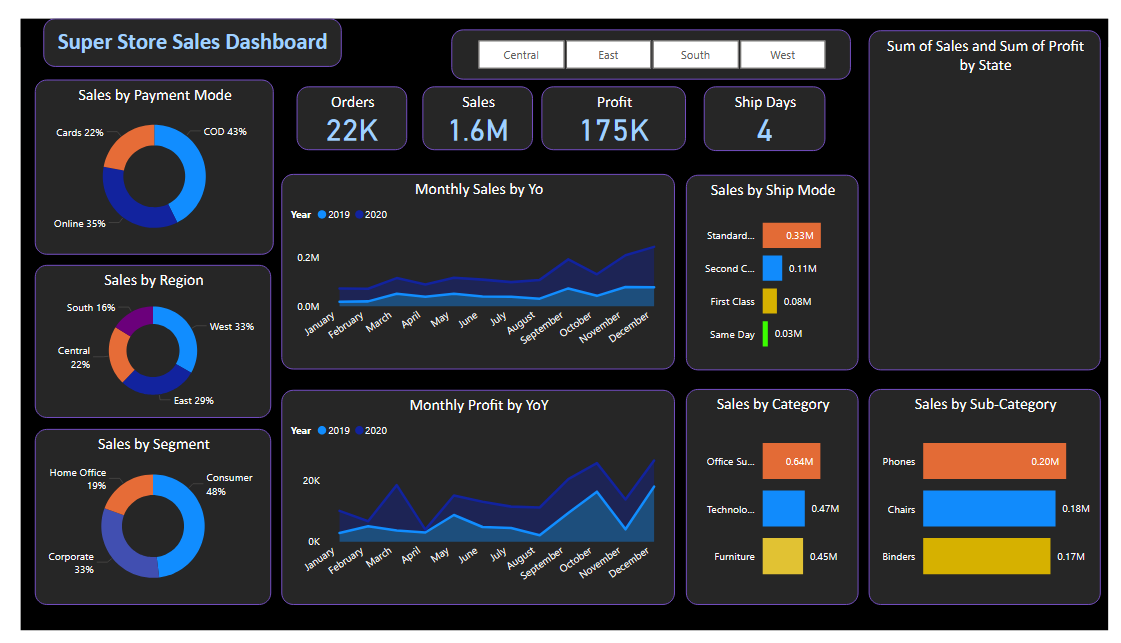

What the dashboard file says about the page in this screenshot:
{"tool":"powerbi","page":{"name":"Dashboard","canvas":[1280,720],"ordinal":0},"visuals":[{"type":"clusteredBarChart","title":"Sales by Category","fields":{"Category":["SuperStore_Sales_Dataset.Category"],"Y":["Sum(SuperStore_Sales_Dataset.Sales)"]},"box":[782.5,436.2,203.8,253.8],"z":0},{"type":"clusteredBarChart","title":"Sales by Sub-Category","fields":{"Y":["Sum(SuperStore_Sales_Dataset.Sales)"],"Category":["SuperStore_Sales_Dataset.Sub-Category"]},"box":[997.5,436.2,273.8,253.8],"z":1000},{"type":"clusteredBarChart","title":"Sales by Ship Mode","fields":{"Y":["Sum(SuperStore_Sales_Dataset.Sales)"],"Category":["SuperStore_Sales_Dataset.Ship Mode"]},"box":[782.5,183.8,203.8,230],"z":2000},{"type":"stackedAreaChart","title":"Monthly Sales by Yo","fields":{"Y":["Sum(SuperStore_Sales_Dataset.Sales)"],"Series":["SuperStore_Sales_Dataset.Order Date.Variation.Date Hierarchy.Year"],"Category":["SuperStore_Sales_Dataset.Order Date.Variation.Date Hierarchy.Month","SuperStore_Sales_Dataset.Order Date.Variation.Date Hierarchy.Day"]},"box":[306.7,183.3,463.3,230],"z":3000},{"type":"stackedAreaChart","title":"Monthly Profit by YoY","fields":{"Series":["SuperStore_Sales_Dataset.Order Date.Variation.Date Hierarchy.Year"],"Category":["SuperStore_Sales_Dataset.Order Date.Variation.Date Hierarchy.Month","SuperStore_Sales_Dataset.Order Date.Variation.Date Hierarchy.Day"],"Y":["Sum(SuperStore_Sales_Dataset.Profit)"]},"box":[306.7,436.7,463.3,253.3],"z":4000},{"type":"map","fields":{"Category":["SuperStore_Sales_Dataset.State"],"Size":["Sum(SuperStore_Sales_Dataset.Sales)"]},"box":[997.5,13.8,273.8,400],"z":5000},{"type":"donutChart","title":"Sales by Segment","fields":{"Category":["SuperStore_Sales_Dataset.Segment"],"Y":["Sum(SuperStore_Sales_Dataset.Sales)"]},"box":[16.7,483.3,278.3,206.7],"z":6000},{"type":"donutChart","title":"Sales by Payment Mode","fields":{"Category":["SuperStore_Sales_Dataset.Payment Mode"],"Y":["Sum(SuperStore_Sales_Dataset.Sales)"]},"box":[16.7,71.7,281.7,206.7],"z":7000},{"type":"slicer","fields":{"Values":["SuperStore_Sales_Dataset.Region"]},"box":[506.7,13.3,470,58.3],"z":8000},{"type":"textbox","box":[26.7,0,351.7,56.7],"z":9000},{"type":"card","title":"Sales","fields":{"Values":["Sum(SuperStore_Sales_Dataset.Sales)"]},"box":[473,80,130,75],"z":9001},{"type":"card","title":"Orders","fields":{"Values":["Sum(SuperStore_Sales_Dataset.Quantity)"]},"box":[325,80,130,75],"z":9002},{"type":"card","title":"Profit","fields":{"Values":["Sum(SuperStore_Sales_Dataset.Profit)"]},"box":[613,80,170,75],"z":9004},{"type":"card","title":"Ship Days","fields":{"Values":["Avg(SuperStore_Sales_Dataset.AvgDelivery)"]},"box":[804.4,80,142.2,75.6],"z":9005},{"type":"donutChart","title":"Sales by Region","fields":{"Category":["SuperStore_Sales_Dataset.Region"],"Y":["Sum(SuperStore_Sales_Dataset.Sales)"]},"box":[16.7,290,278.3,180],"z":9006}]}

Visuals, with their boxes in screenshot pixels (x1, y1, x2, y2), scaled from the page's 1280x720 canvas onto the 1121x643 screenshot:
"Sales by Category" clusteredBarChart: bbox=[685, 390, 864, 616]
"Sales by Sub-Category" clusteredBarChart: bbox=[874, 390, 1113, 616]
"Sales by Ship Mode" clusteredBarChart: bbox=[685, 164, 864, 370]
"Monthly Sales by Yo" stackedAreaChart: bbox=[269, 164, 674, 369]
"Monthly Profit by YoY" stackedAreaChart: bbox=[269, 390, 674, 616]
map - SuperStore_Sales_Dataset.State x Sum(SuperStore_Sales_Dataset.Sales): bbox=[874, 12, 1113, 370]
"Sales by Segment" donutChart: bbox=[15, 432, 258, 616]
"Sales by Payment Mode" donutChart: bbox=[15, 64, 261, 249]
slicer - SuperStore_Sales_Dataset.Region: bbox=[444, 12, 855, 64]
textbox: bbox=[23, 0, 331, 51]
"Sales" card: bbox=[414, 71, 528, 138]
"Orders" card: bbox=[285, 71, 398, 138]
"Profit" card: bbox=[537, 71, 686, 138]
"Ship Days" card: bbox=[704, 71, 829, 139]
"Sales by Region" donutChart: bbox=[15, 259, 258, 420]
